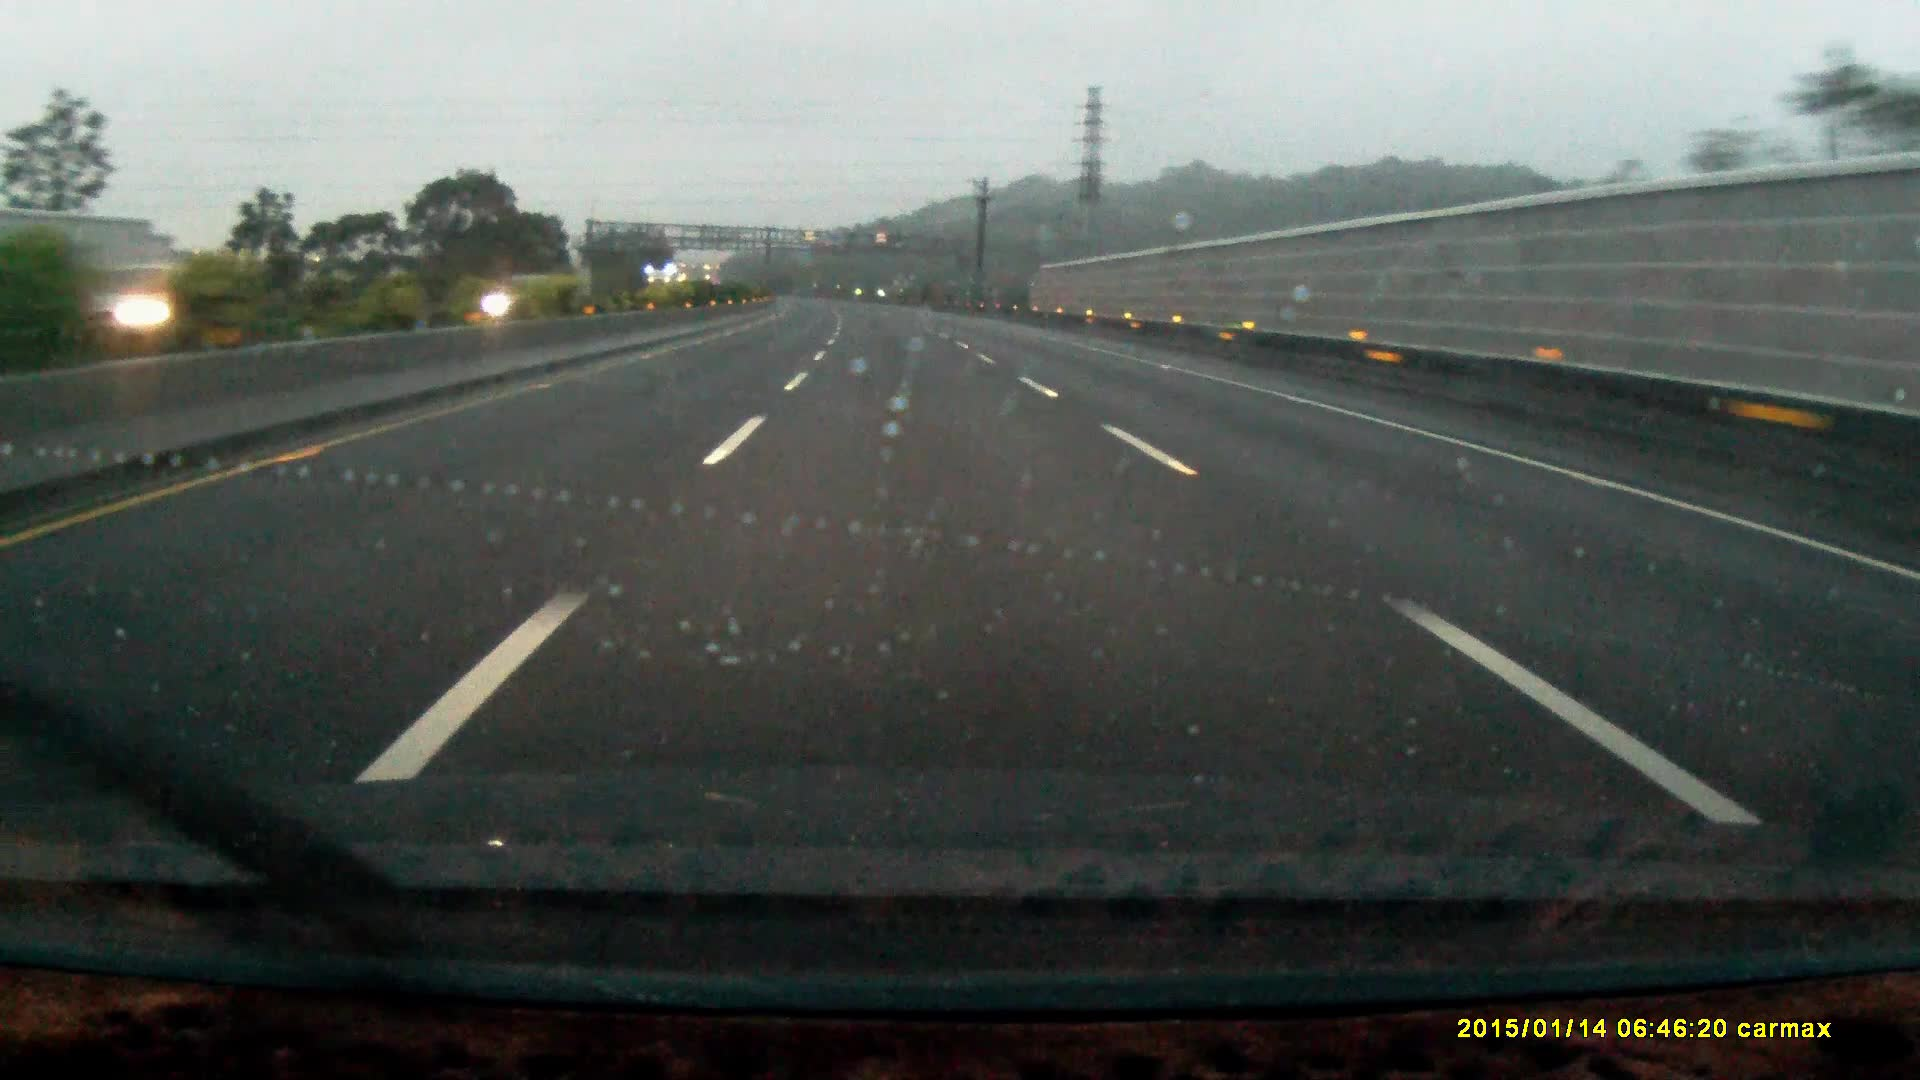vehicle: (444, 274, 527, 320), (647, 265, 688, 306)
